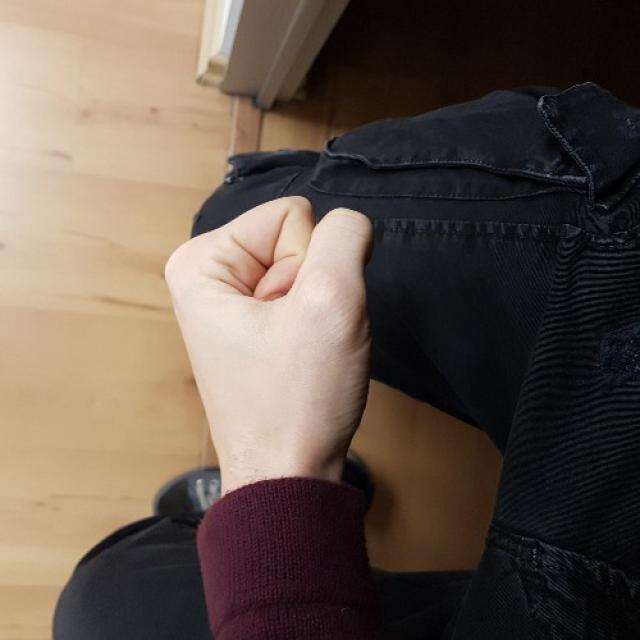fist: (158, 194, 379, 476)
